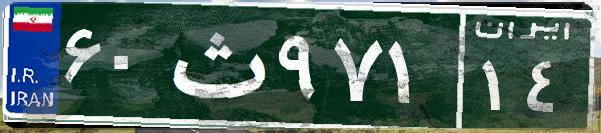0: (110, 28, 158, 105)
1: (385, 28, 445, 110), (475, 38, 525, 113)
4: (525, 38, 570, 115)
6: (57, 26, 110, 107)
7: (330, 28, 385, 110)
9: (273, 28, 330, 110)
ث: (158, 15, 273, 115)
